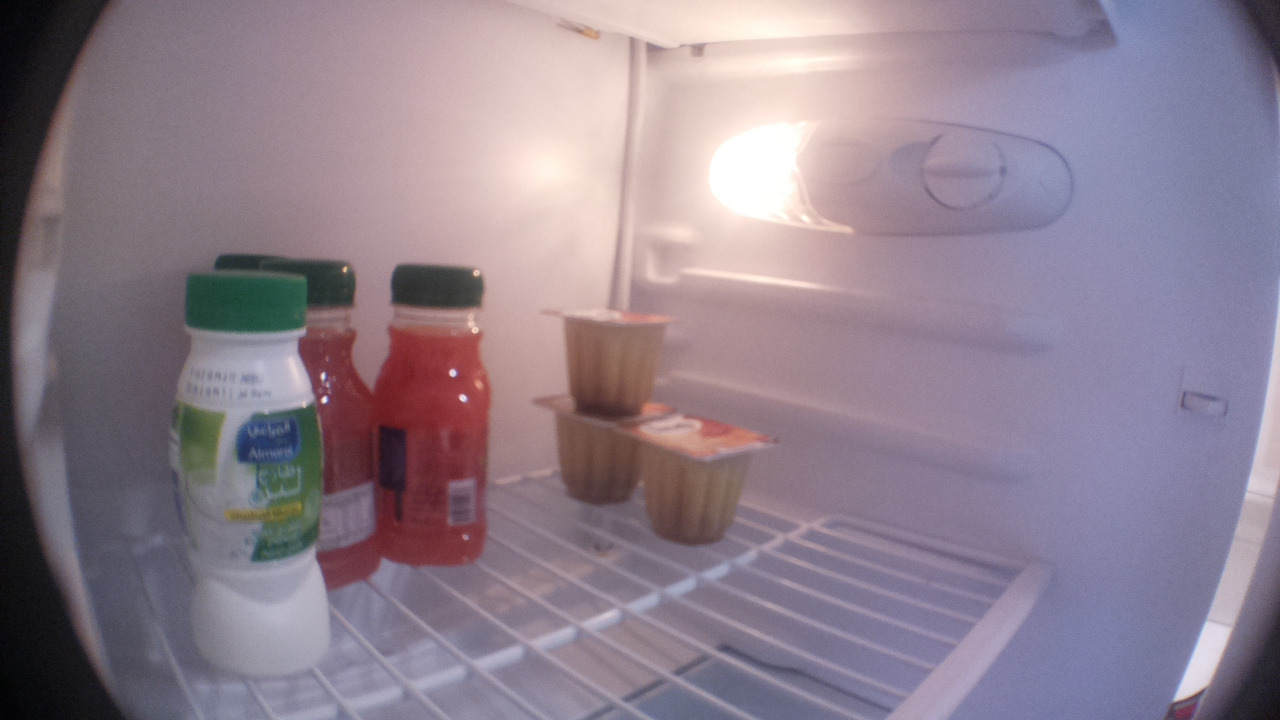caramel: (634, 403, 782, 554), (520, 380, 674, 507), (536, 295, 689, 418)
juice: (296, 257, 377, 593)
laban: (172, 269, 338, 683)
